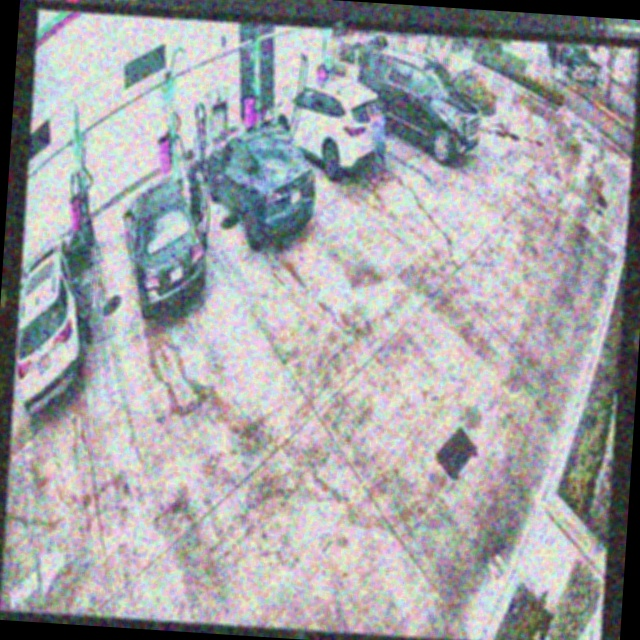Car: (352, 46, 487, 166), (202, 117, 318, 247), (117, 176, 211, 323), (272, 71, 384, 175)
